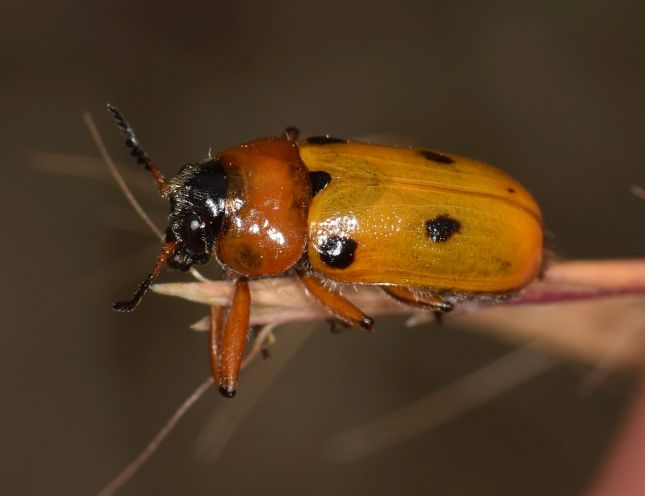Tituboea_macropus: (100, 90, 552, 405)
